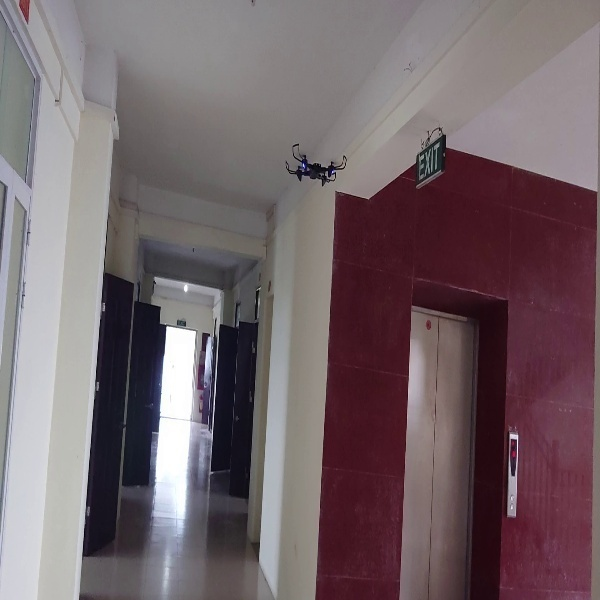drone: (282, 142, 347, 186)
